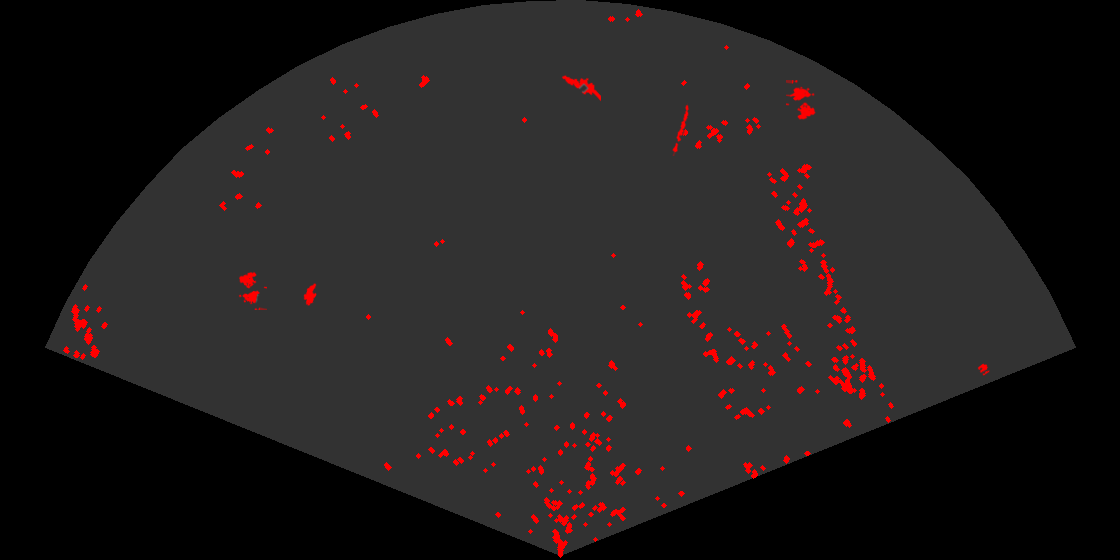AUV: (302, 282, 318, 307)
ball: (976, 362, 991, 377)
cage: (786, 80, 817, 121), (237, 270, 267, 310)
chain: (671, 103, 691, 156)
frogman: (560, 74, 601, 103)
